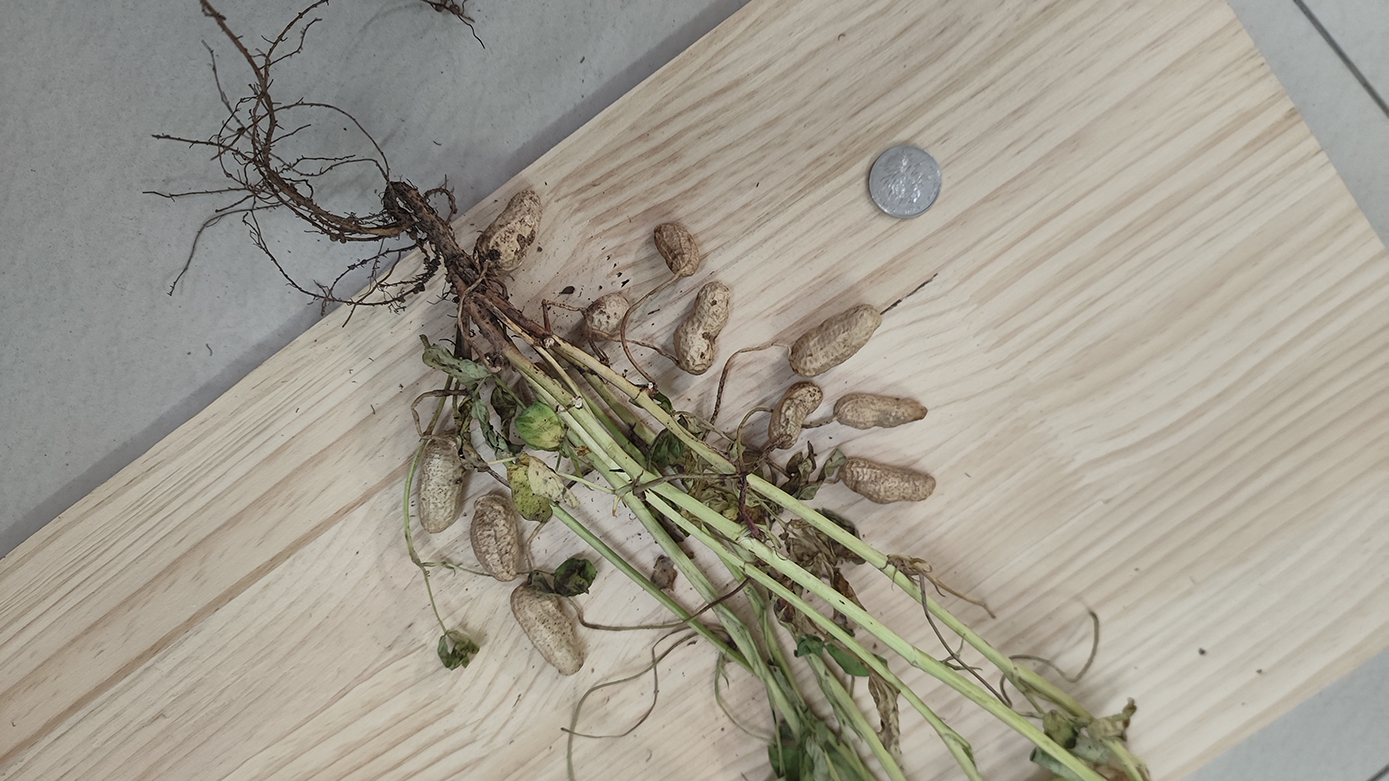h: (511, 583, 586, 675), (789, 303, 883, 376), (672, 279, 731, 376), (478, 188, 543, 271), (417, 435, 466, 535), (837, 458, 937, 504), (471, 494, 523, 582), (767, 380, 824, 450), (834, 391, 928, 430), (655, 222, 701, 277), (585, 293, 632, 339)
